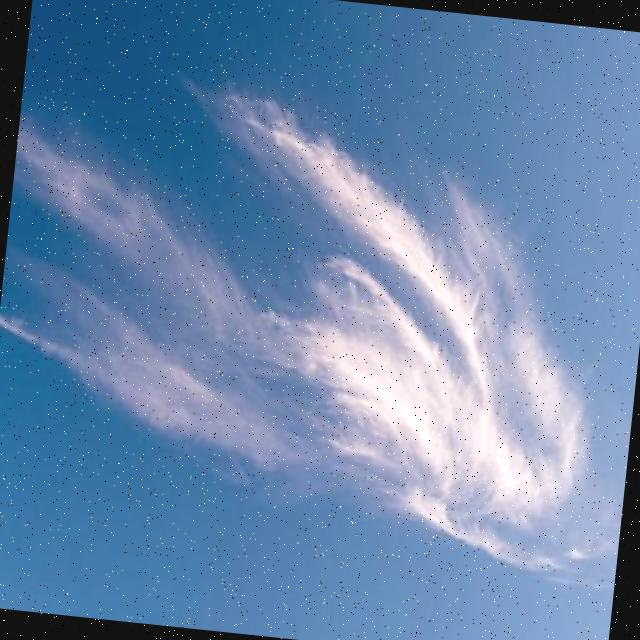Cs: (1, 60, 640, 584)
